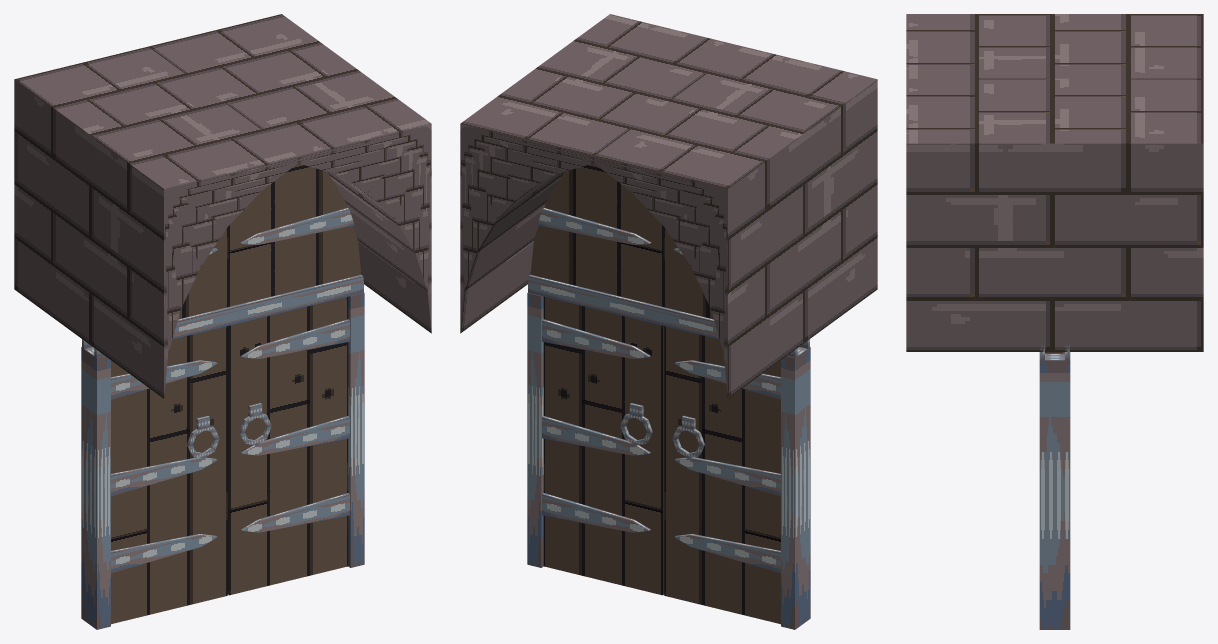
Rendered from door_normal.glb.
3 views of the same model, side by side, from view 1: azimuth 30°, elevation 25°; view 2: azimuth 150°, elevation 25°; view 3: azimuth 270°, elevation 25° (orthographic).
Parts seen in each view (by area): view 1: portal, leaf_a, leaf_b; view 2: portal, leaf_a, leaf_b; view 3: portal.
Boxes of the visible parts, left/top/right/bottom form: portal: left=14, top=14, right=431, bottom=629; leaf_a: left=227, top=296, right=349, bottom=595; leaf_b: left=111, top=326, right=227, bottom=624; portal: left=460, top=14, right=877, bottom=629; leaf_a: left=542, top=296, right=664, bottom=595; leaf_b: left=664, top=326, right=780, bottom=624; portal: left=906, top=14, right=1203, bottom=629.
Size of the model in its own units: 2 by 3.5 by 1.94.
Materials: 1 (1 with a texture image).
